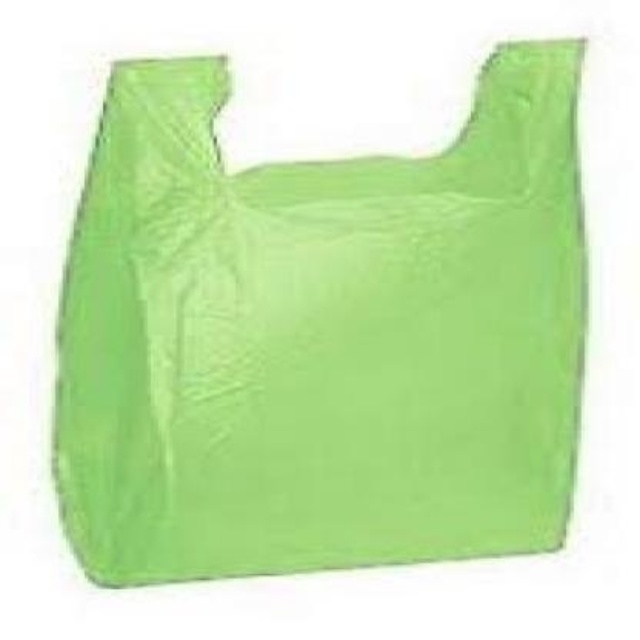trash: (55, 40, 585, 585)
